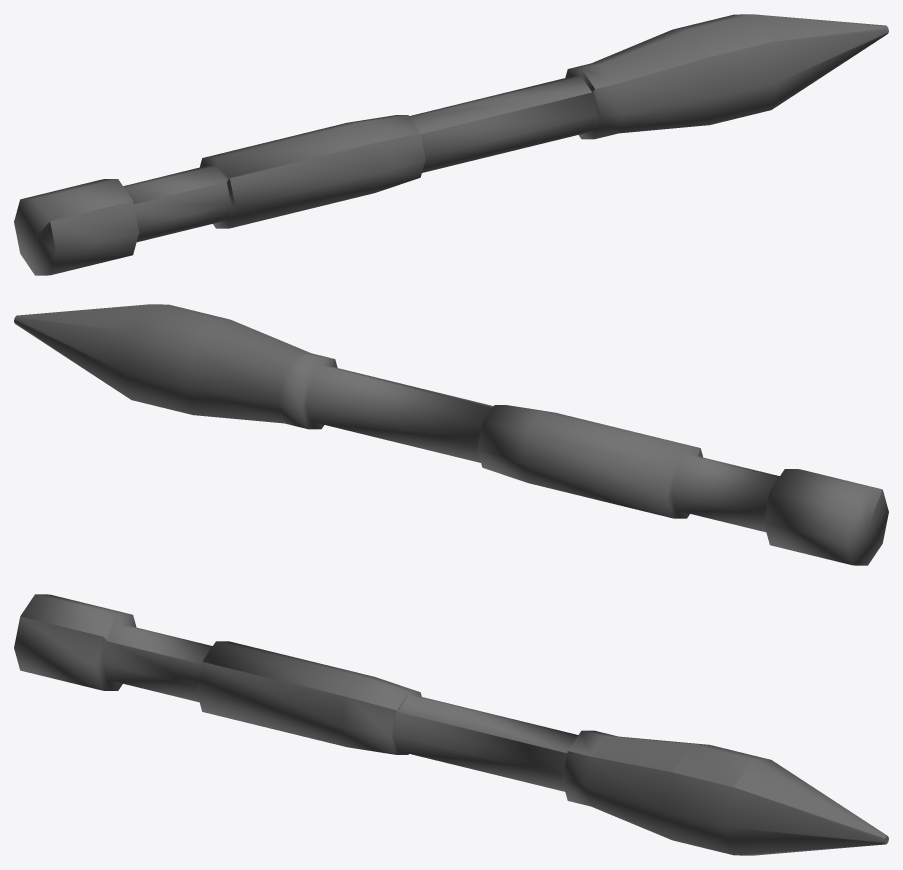
The model's file is rocket.fbx.
3 renders of one model, top to bottom at view 1: azimuth 30°, elevation 25°; view 2: azimuth 150°, elevation 25°; view 3: azimuth 330°, elevation 25°, orthographic.
Visible parts, largest first — view 1: Cylinder01_01_-_Defau; view 2: Cylinder01_01_-_Defau; view 3: Cylinder01_01_-_Defau.
Boxes of the visible parts, x1,y1,x2,y2 form: Cylinder01_01_-_Defau: (14, 14, 888, 275); Cylinder01_01_-_Defau: (14, 304, 888, 565); Cylinder01_01_-_Defau: (14, 594, 888, 855).
Bounding box in the file's own units: 20.77 × 2.24 × 2.24.
Materials: 1 (1 with a texture image).
